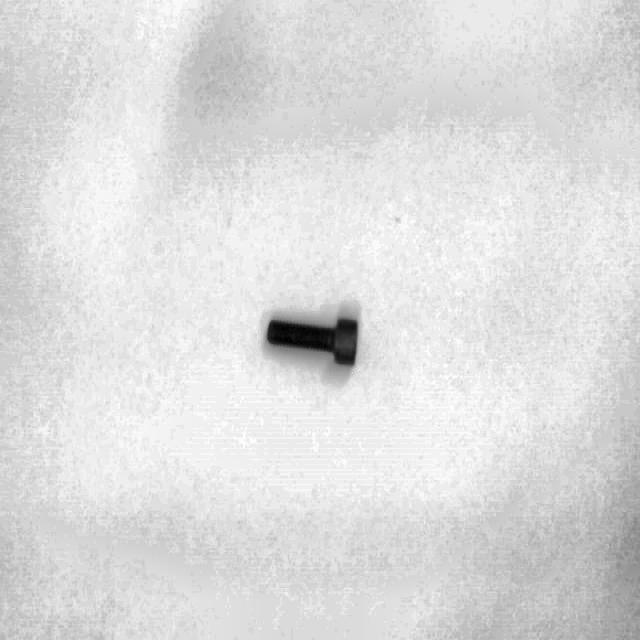Socket head cap screw: (265, 314, 358, 366)
